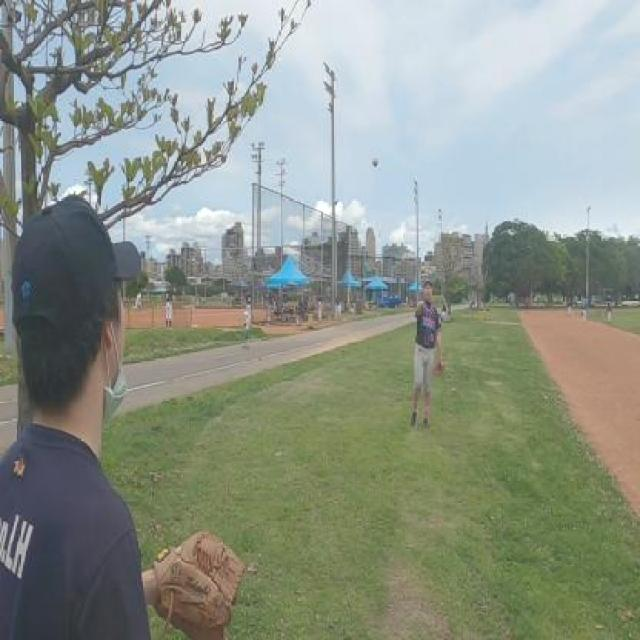sports ball: (370, 156, 382, 170)
